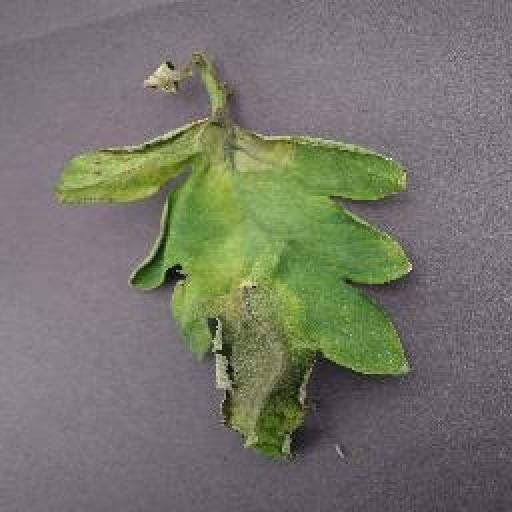Late Blight: (57, 116, 415, 461)
